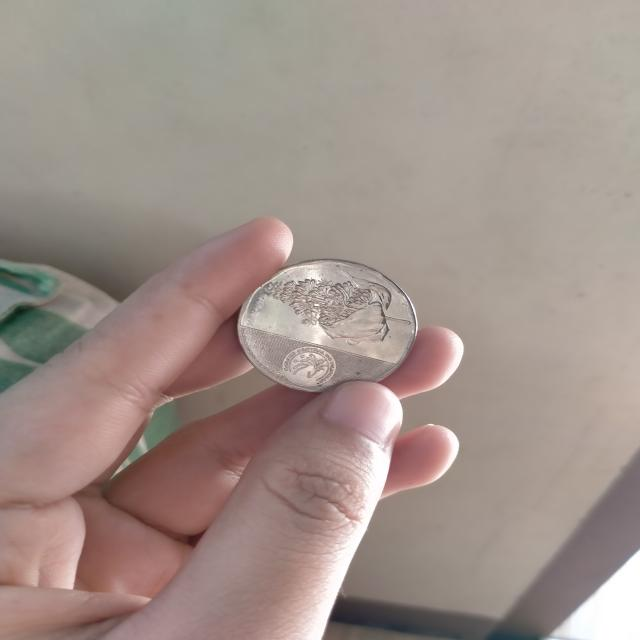10_New_Back: (264, 269, 414, 348)
